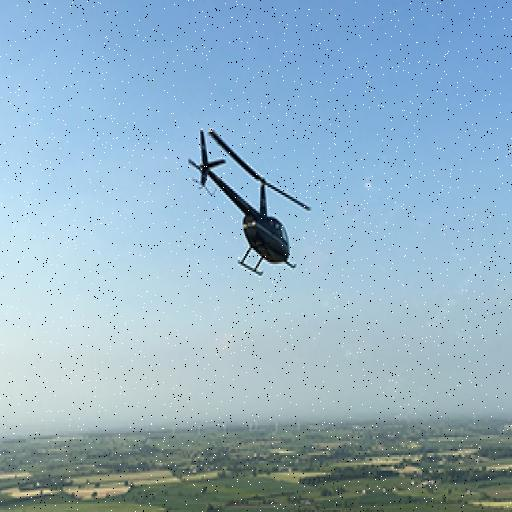helicopter: (184, 127, 323, 275)
